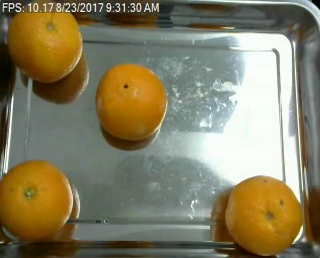Orange: (224, 173, 304, 257), (4, 1, 81, 82), (1, 159, 74, 239), (96, 62, 168, 141)
